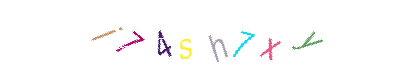4: (145, 0, 225, 80)
7: (123, 0, 203, 80), (172, 0, 252, 80)
H: (169, 0, 249, 80)
J: (92, 0, 172, 80)
S: (159, 0, 239, 80)
X: (204, 0, 284, 80)
Y: (258, 0, 338, 80)
